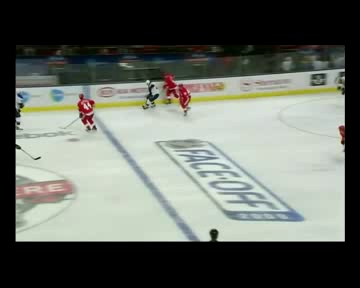normal: (140, 70, 196, 119)
